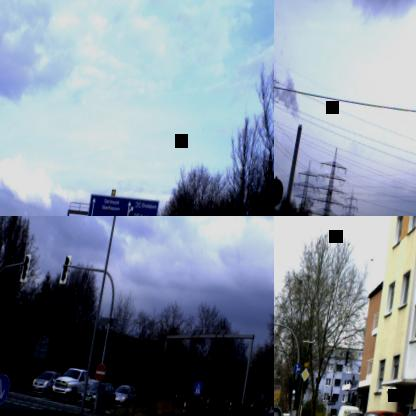NO ENTRY: (92, 362, 107, 382)
go right: (292, 361, 302, 374)
keep right: (0, 371, 11, 405)
priority road: (300, 366, 310, 382)
speed limit 70: (274, 176, 285, 208)
